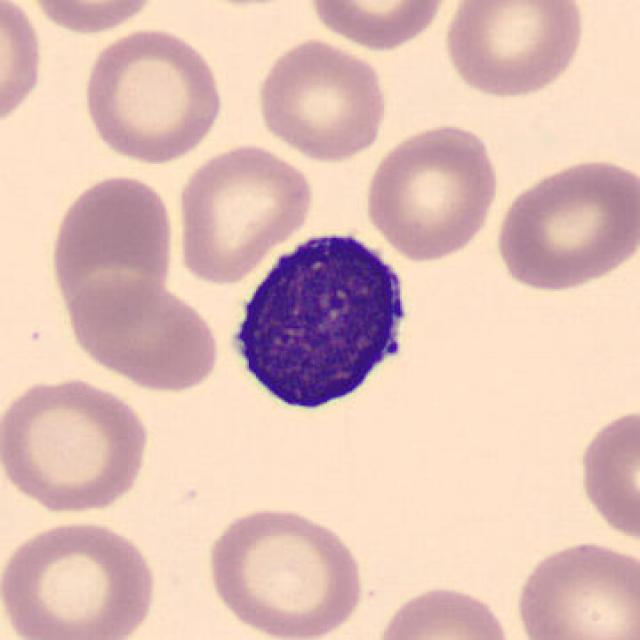Lymphocyte: (217, 217, 425, 427)
RBC: (202, 500, 368, 640), (0, 372, 153, 517), (172, 139, 316, 286), (46, 171, 178, 331), (78, 24, 226, 166), (491, 153, 638, 294), (361, 118, 501, 263), (0, 516, 162, 640), (60, 273, 224, 393), (253, 35, 391, 162), (439, 0, 588, 100), (510, 536, 638, 640), (574, 402, 638, 547), (372, 582, 518, 640), (304, 0, 453, 51), (0, 0, 46, 136), (21, 0, 166, 37)
